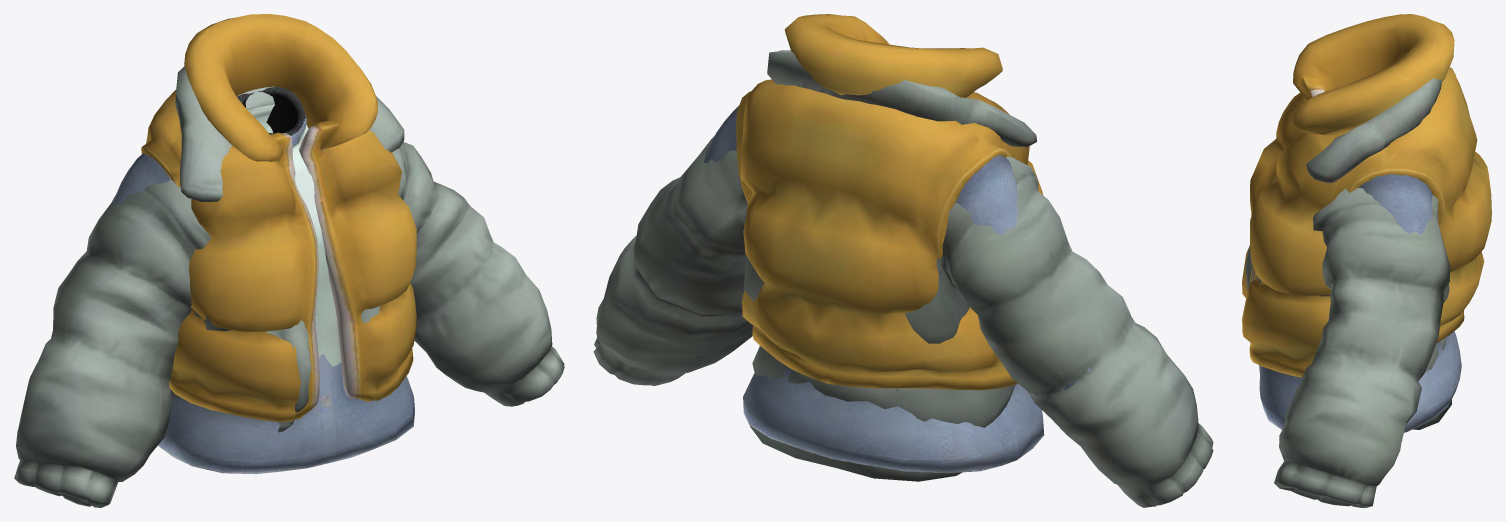
The picture shows the model from 3 angles, left to right: view 1: azimuth 30°, elevation 25°; view 2: azimuth 150°, elevation 25°; view 3: azimuth 270°, elevation 25°; orthographic projection. The views are drawn at different scales.
Parts seen in each view (by area): view 1: Wolf3D_Outfit_Top.001, Wolf3D_Outfit_Top; view 2: Wolf3D_Outfit_Top.001, Wolf3D_Outfit_Top; view 3: Wolf3D_Outfit_Top.001, Wolf3D_Outfit_Top.
Boxes of the visible parts, box(x1,y1,x2,y2) form: Wolf3D_Outfit_Top.001: box(113, 14, 416, 474); Wolf3D_Outfit_Top: box(14, 66, 564, 507); Wolf3D_Outfit_Top.001: box(703, 14, 1090, 473); Wolf3D_Outfit_Top: box(593, 50, 1213, 507); Wolf3D_Outfit_Top.001: box(1242, 14, 1491, 432); Wolf3D_Outfit_Top: box(1245, 78, 1451, 507).
Bounding box in the file's own units: 0.957 × 0.676 × 0.4098.
Materials: 2 (2 with a texture image).
